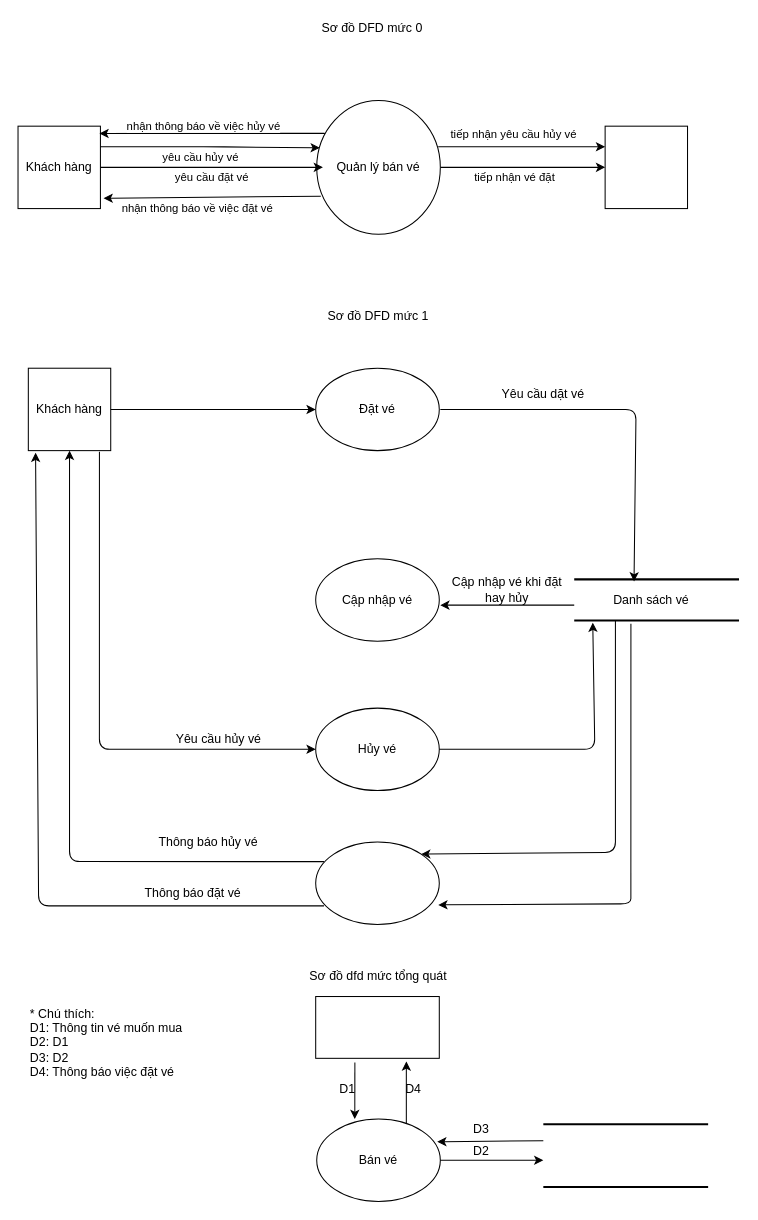
Some shapes in this 758 by 1220 pixel diagram are drawn without their labels. Each missing label, with the centre of its shape:
"Người mua" belongs at point 377,1026.
"Quản lý" belongs at point 646,167.
"Thông báo kết quả thực hiện" belongs at point 377,882.
